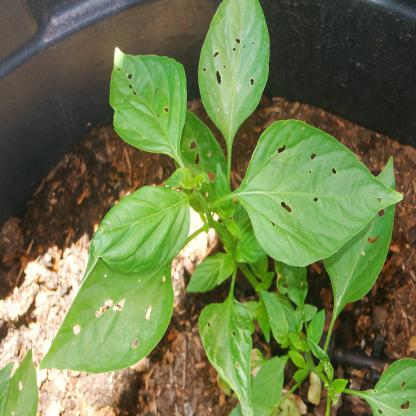Bell_pepper leaf: (244, 118, 403, 266), (102, 42, 185, 162), (195, 2, 266, 141), (90, 193, 191, 274), (194, 293, 256, 416)
